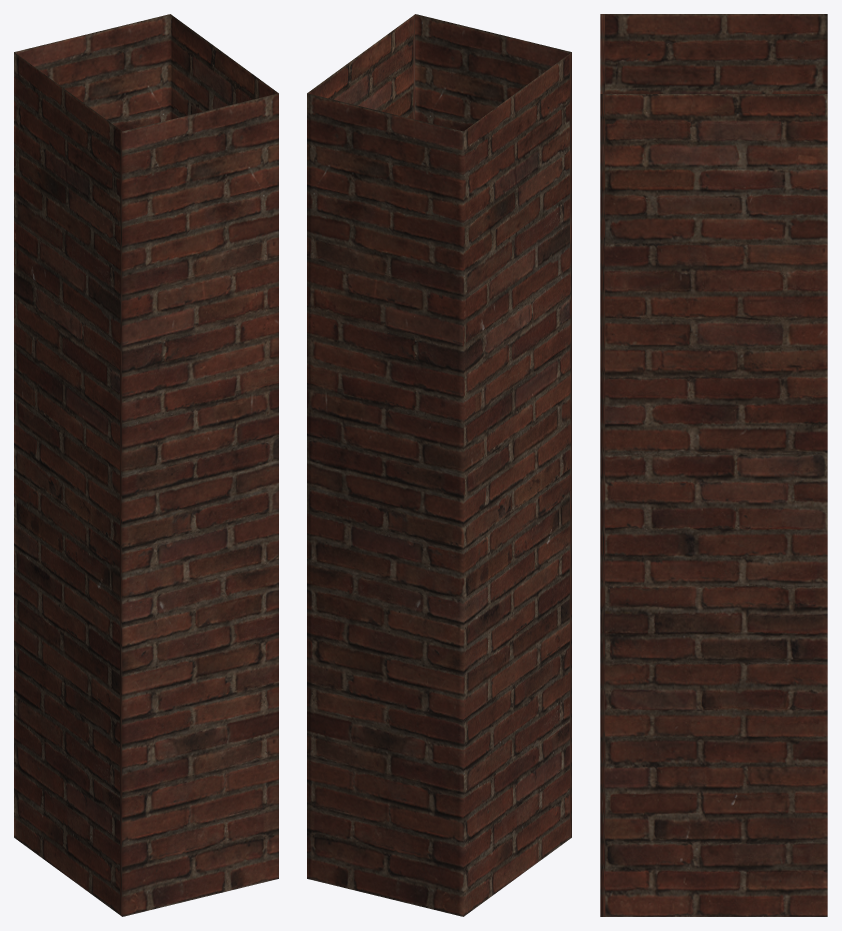
The model's file is wall_pillar_brick.fbx.
3 renders of one model, left to right at view 1: azimuth 30°, elevation 25°; view 2: azimuth 150°, elevation 25°; view 3: azimuth 270°, elevation 25°, orthographic. The views are drawn at different scales.
Visible parts, largest first — view 1: wall_pillar_brick; view 2: wall_pillar_brick; view 3: wall_pillar_brick.
Boxes of the visible parts, left/top/right/bottom form: wall_pillar_brick: left=14, top=14, right=278, bottom=916; wall_pillar_brick: left=307, top=14, right=571, bottom=916; wall_pillar_brick: left=600, top=14, right=827, bottom=916.
Bounding box in the file's own units: 0.4 × 1.92 × 0.48.
